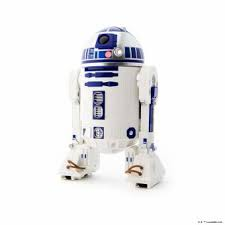r2d2: (60, 25, 166, 189)
